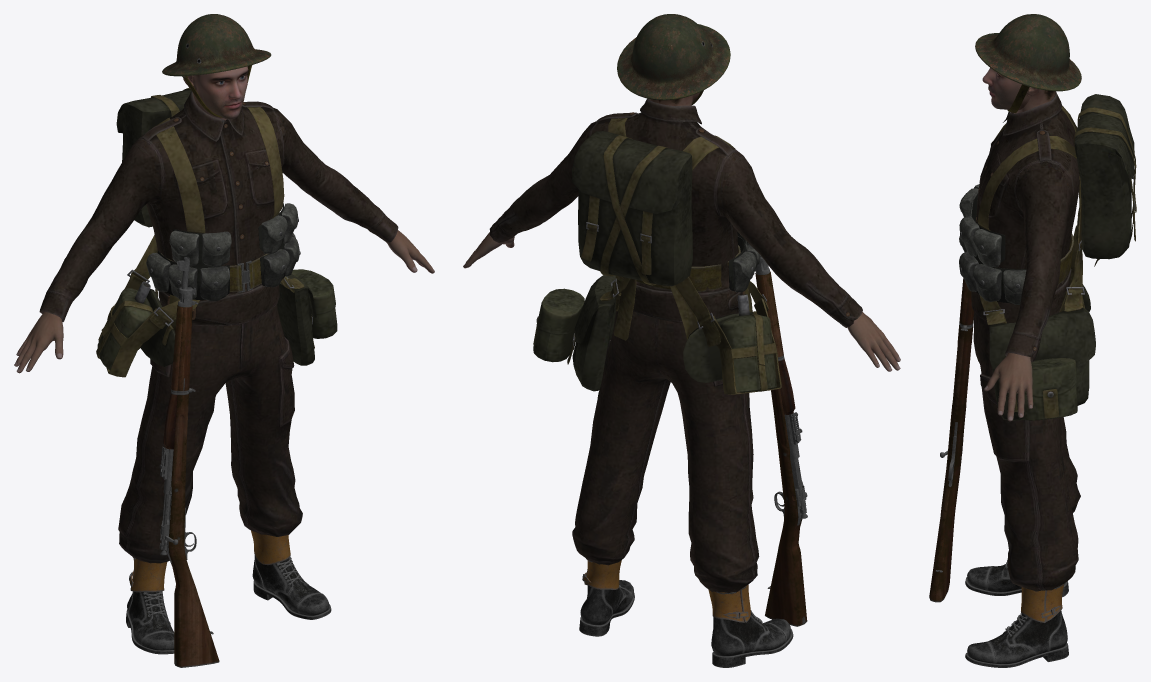
Rendered from uk-jakeli-mobile-static.glb.
3 views of the same model, side by side, from view 1: azimuth 30°, elevation 25°; view 2: azimuth 150°, elevation 25°; view 3: azimuth 270°, elevation 25° (orthographic). The views are drawn at different scales.
Visible parts, largest first — view 1: 1_T_Shirt_low001, Pants_004, 3_ALL_BAG, springfield.001_rifle_0, 10_SHOE_low, FOR_SKTCH, SLD_1, HELMET, BELT_low; view 2: 3_ALL_BAG, Pants_004, 1_T_Shirt_low001, springfield.001_rifle_0, HELMET, 10_SHOE_low, SLD_1, FOR_SKTCH, BELT_low; view 3: 3_ALL_BAG, 1_T_Shirt_low001, Pants_004, 10_SHOE_low, HELMET, springfield.001_rifle_0, FOR_SKTCH, SLD_1, BELT_low.
Boxes of the visible parts, x1=… form: 1_T_Shirt_low001: x1=39, y1=90, x2=398, y2=326; Pants_004: x1=118, y1=304, x2=302, y2=563; 3_ALL_BAG: x1=96, y1=88, x2=337, y2=377; springfield.001_rifle_0: x1=159, y1=257, x2=219, y2=667; 10_SHOE_low: x1=126, y1=530, x2=331, y2=654; FOR_SKTCH: x1=146, y1=203, x2=300, y2=301; SLD_1: x1=14, y1=66, x2=434, y2=373; HELMET: x1=162, y1=14, x2=271, y2=117; BELT_low: x1=161, y1=253, x2=268, y2=292; 3_ALL_BAG: x1=533, y1=118, x2=781, y2=394; Pants_004: x1=572, y1=310, x2=759, y2=592; 1_T_Shirt_low001: x1=489, y1=98, x2=862, y2=327; springfield.001_rifle_0: x1=755, y1=256, x2=807, y2=626; HELMET: x1=617, y1=14, x2=730, y2=105; 10_SHOE_low: x1=579, y1=558, x2=793, y2=667; SLD_1: x1=463, y1=92, x2=900, y2=371; FOR_SKTCH: x1=728, y1=232, x2=760, y2=292; BELT_low: x1=636, y1=245, x2=740, y2=291; 3_ALL_BAG: x1=977, y1=94, x2=1136, y2=420; 1_T_Shirt_low001: x1=971, y1=91, x2=1079, y2=362; Pants_004: x1=973, y1=312, x2=1080, y2=591; 10_SHOE_low: x1=965, y1=560, x2=1068, y2=667; HELMET: x1=975, y1=14, x2=1081, y2=113; springfield.001_rifle_0: x1=929, y1=278, x2=974, y2=602; FOR_SKTCH: x1=959, y1=184, x2=1026, y2=304; SLD_1: x1=982, y1=68, x2=1054, y2=421; BELT_low: x1=1058, y1=233, x2=1073, y2=284.
Bounding box in the file's own units: 164 × 225 × 69.43.
14 materials, 13 textured.
